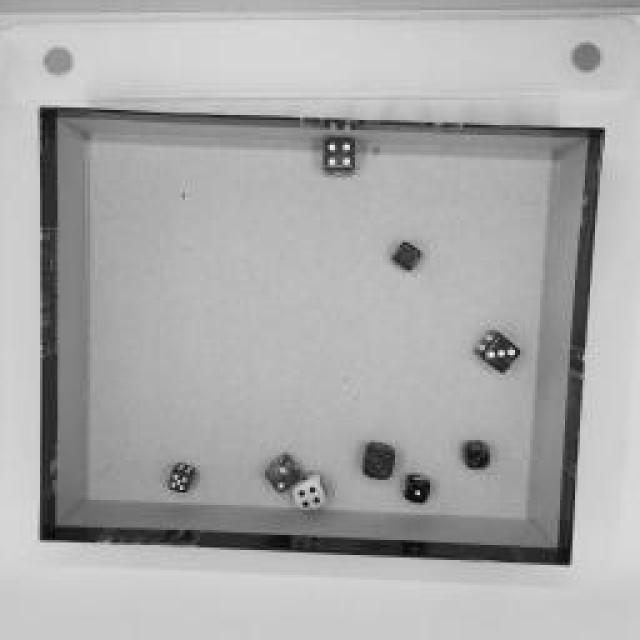dice_1: (402, 471, 432, 504)
dice_2: (266, 455, 302, 495)
dice_3: (476, 330, 522, 372), (361, 439, 399, 481), (388, 240, 422, 272), (462, 438, 492, 470)
dice_4: (290, 472, 328, 510), (324, 136, 356, 176)
dice_5: (166, 463, 199, 495)
